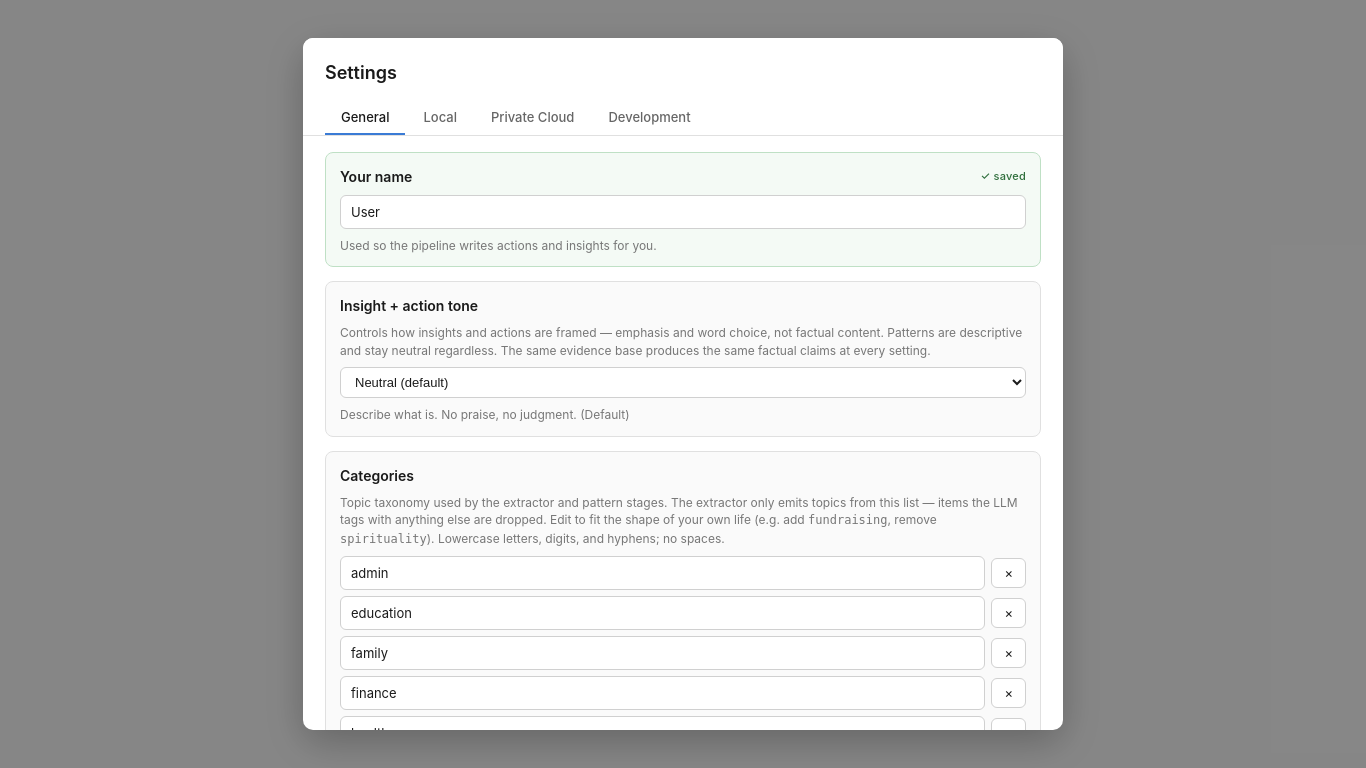
Settings — load + render › persists the Tinfoil key after a successful verify
Check: the heading "Settings" is shown, box [325,62,397,83]
Step 1. Click the tab "Private Cloud" → (533, 118), box [475,100,590,134]
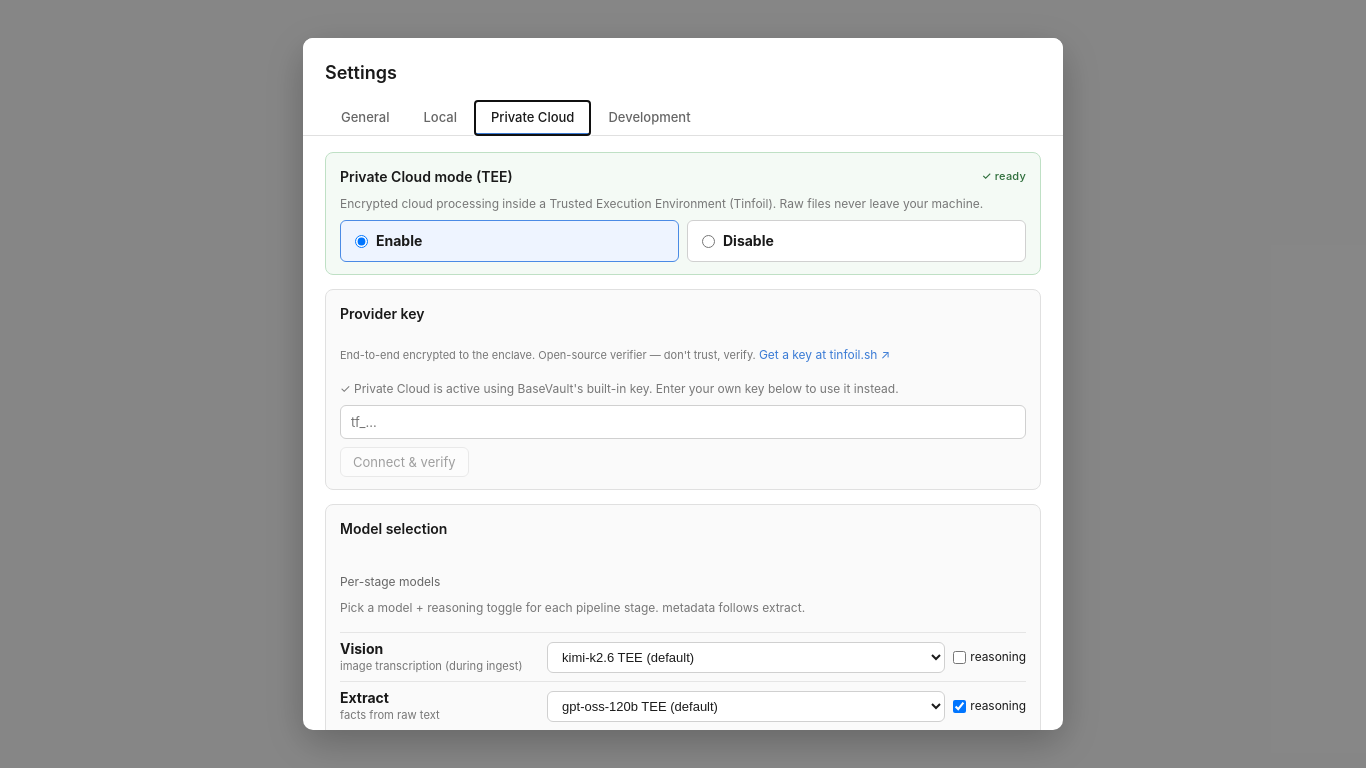
Step 2. Type "tf_good_key" into the password field with placeholder "tf_..." → (683, 422), box [340,405,1026,439]
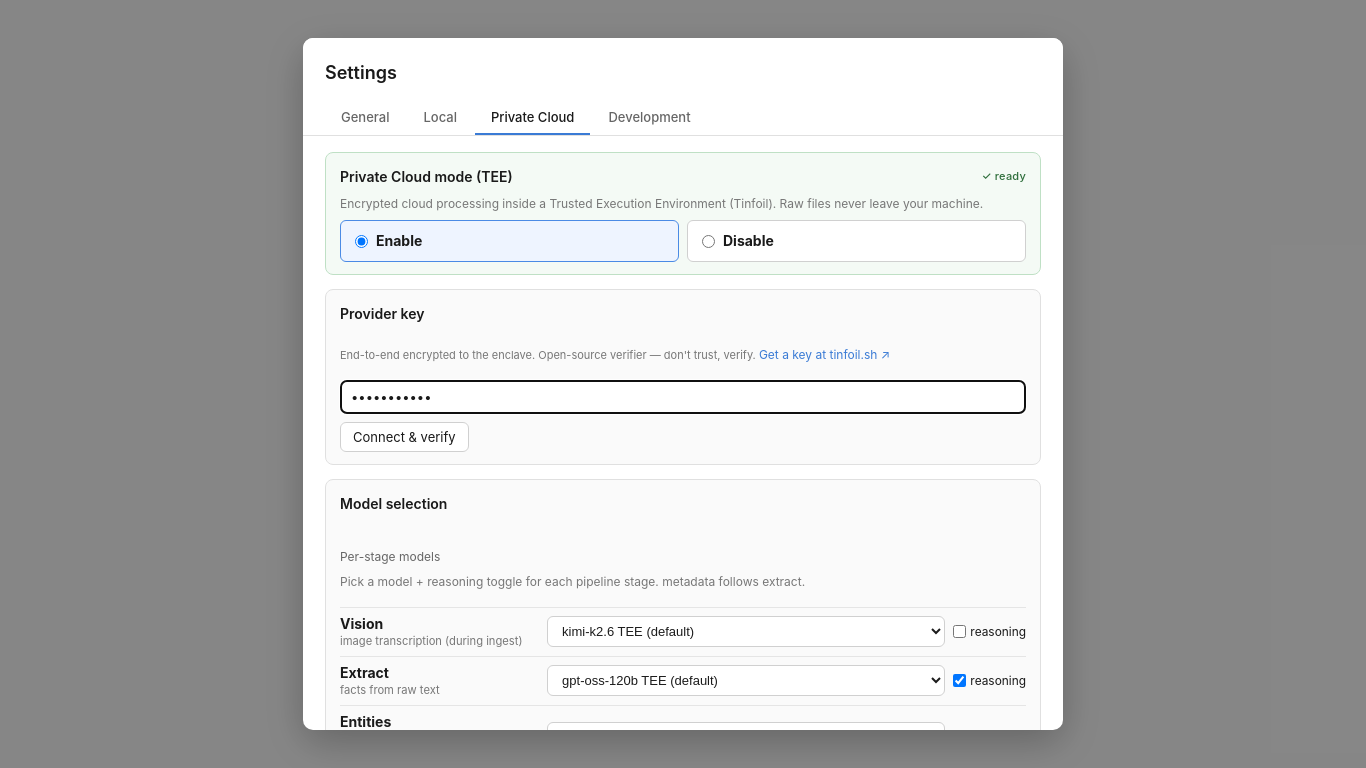
Step 3. Click the button "Connect & verify" → (404, 437), box [340,422,468,452]
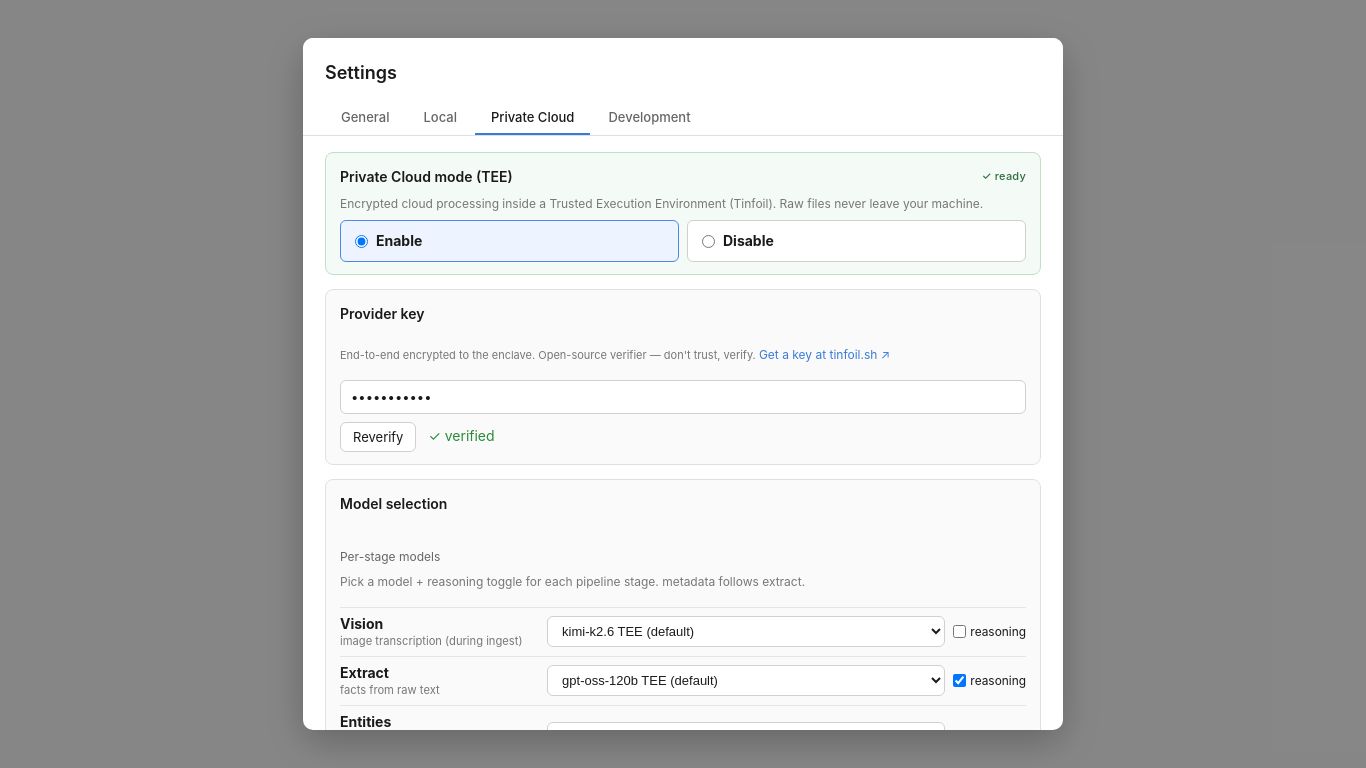
Check: the text "✓ verified" is shown, box [428,426,495,447]
